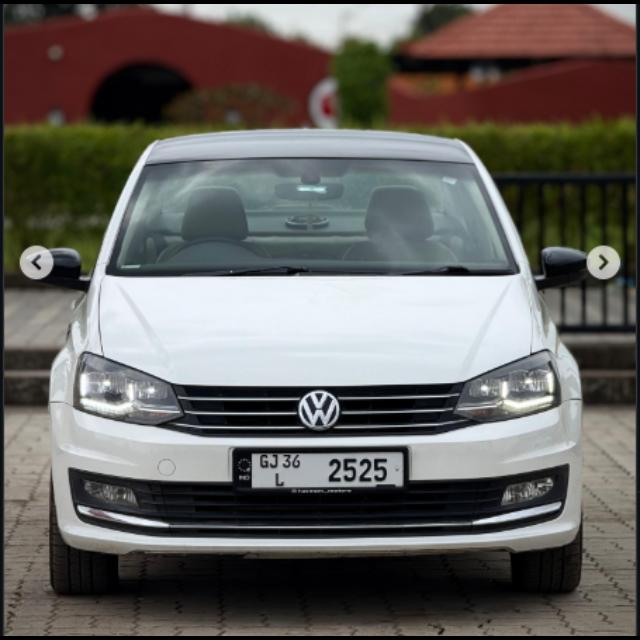vehicles: (25, 124, 605, 592)
